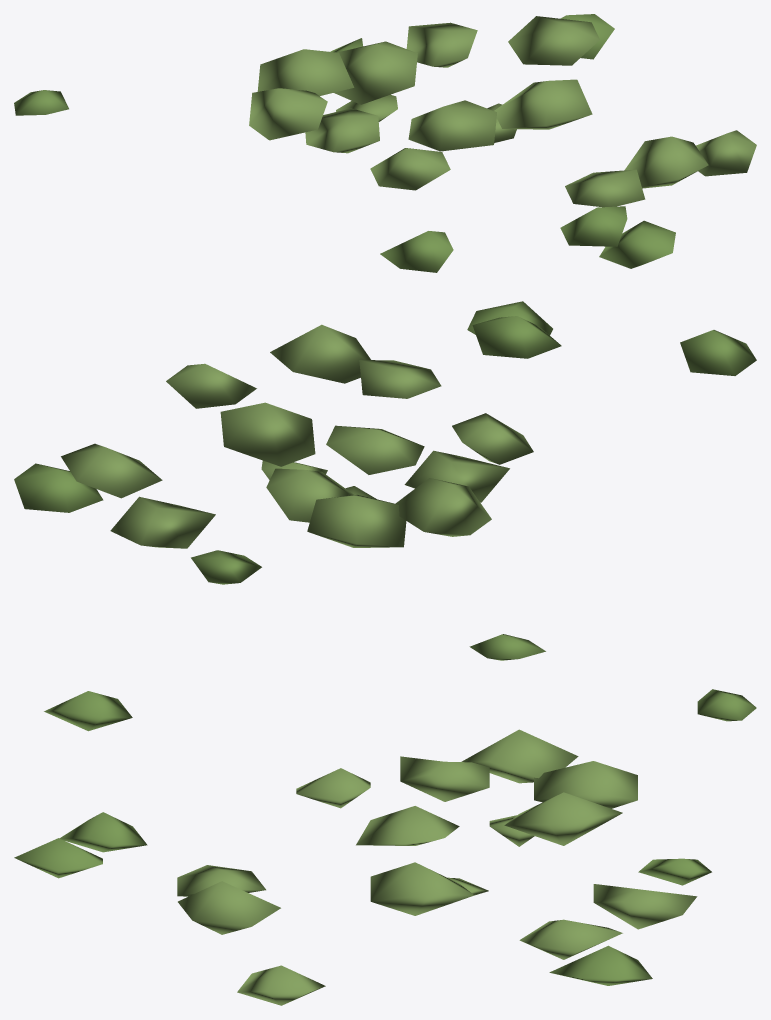
The model's file is canopy-2-0-9.glb.
3 views of the same model, one above another, from view 1: azimuth 30°, elevation 25°; view 2: azimuth 150°, elevation 25°; view 3: azimuth 270°, elevation 25° (orthographic). The views are drawn at different scales.
Size of the model in its own units: 115 by 20 by 125.
1 material, 1 textured.
